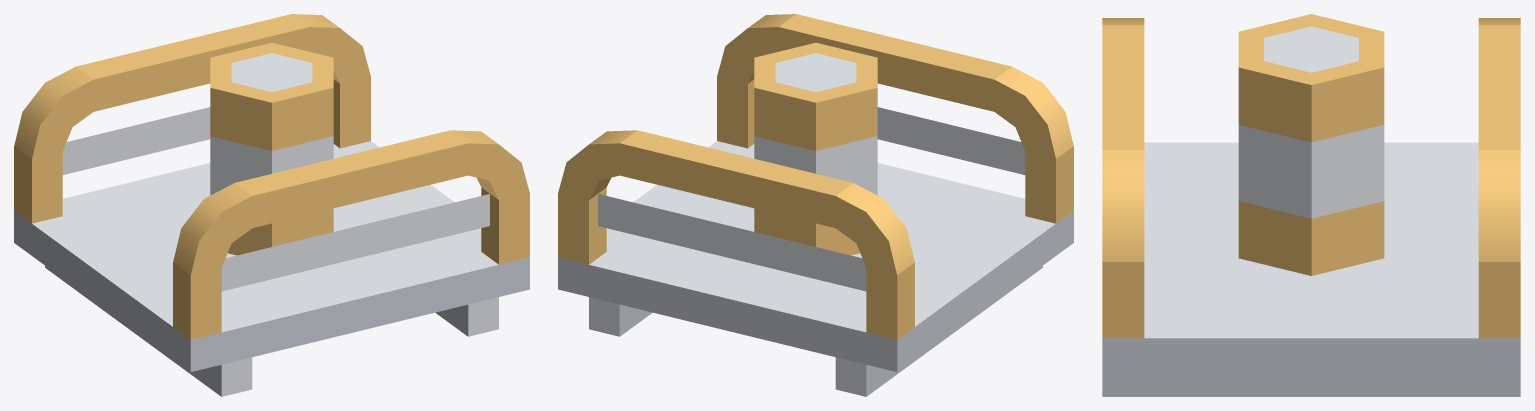
Rendered from barrels_rail.glb.
3 views of the same model, side by side, from view 1: azimuth 30°, elevation 25°; view 2: azimuth 150°, elevation 25°; view 3: azimuth 270°, elevation 25° (orthographic). The views are drawn at different scales.
Parts seen in each view (by area): view 1: barrels_rail, barrels_rail.003, barrels_rail.002; view 2: barrels_rail, barrels_rail.002, barrels_rail.003; view 3: barrels_rail, barrels_rail.003, barrels_rail.002.
Part boxes in pixels (bbox=[...]): barrels_rail: bbox=[14, 14, 529, 396]; barrels_rail.003: bbox=[210, 43, 333, 255]; barrels_rail.002: bbox=[210, 42, 333, 248]; barrels_rail: bbox=[558, 14, 1073, 396]; barrels_rail.002: bbox=[754, 42, 877, 251]; barrels_rail.003: bbox=[754, 44, 877, 255]; barrels_rail: bbox=[1102, 18, 1520, 396]; barrels_rail.003: bbox=[1238, 17, 1384, 275]; barrels_rail.002: bbox=[1238, 14, 1384, 143].
Bounding box in the file's own units: 1.65 × 1.05 × 1.49.
